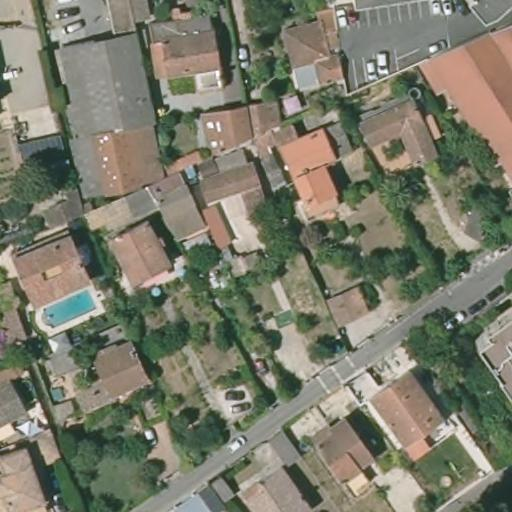pool: (34, 288, 98, 331)
